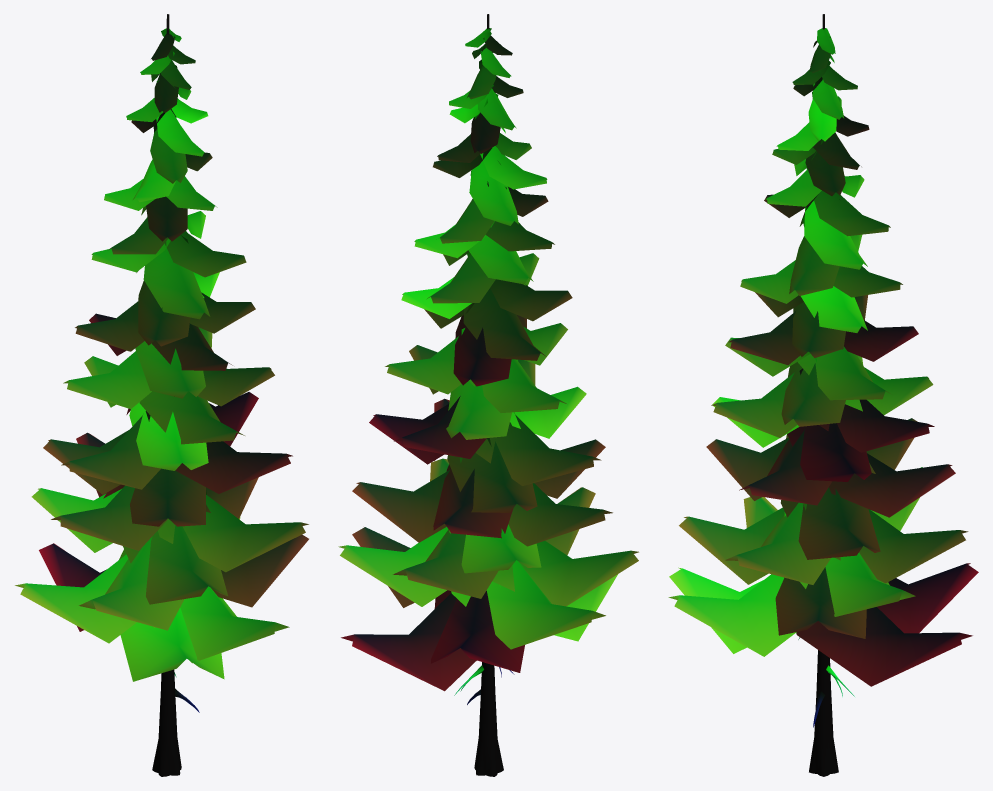
Rendered from M_Pine_6_3.fbx.
3 renders of one model, left to right at view 1: azimuth 30°, elevation 25°; view 2: azimuth 150°, elevation 25°; view 3: azimuth 270°, elevation 25°, orthographic.
Visible parts, largest first — view 1: Tree_3; view 2: Tree_3; view 3: Tree_3.
Boxes of the visible parts, box(x1,y1,x2,y2) form: Tree_3: box(15, 14, 308, 776); Tree_3: box(338, 14, 638, 776); Tree_3: box(668, 14, 978, 776).
Bounding box in the file's own units: 1039 × 2815 × 1049.
